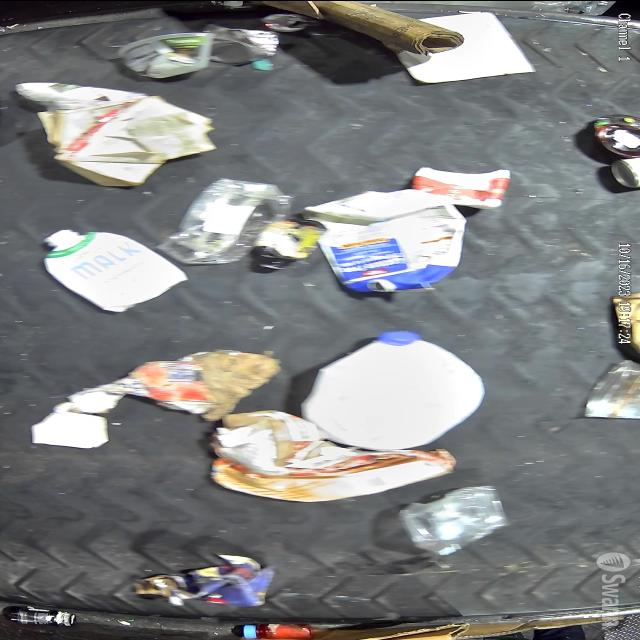can: (396, 482, 510, 556), (202, 22, 280, 66), (609, 156, 640, 188)
milk_jug: (301, 328, 488, 450)
non_white_jug: (302, 188, 468, 292)
